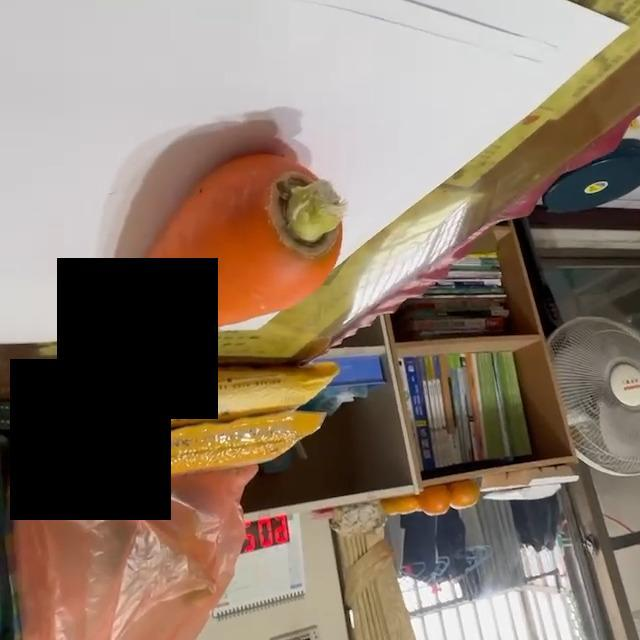carrot: (114, 152, 347, 358)
